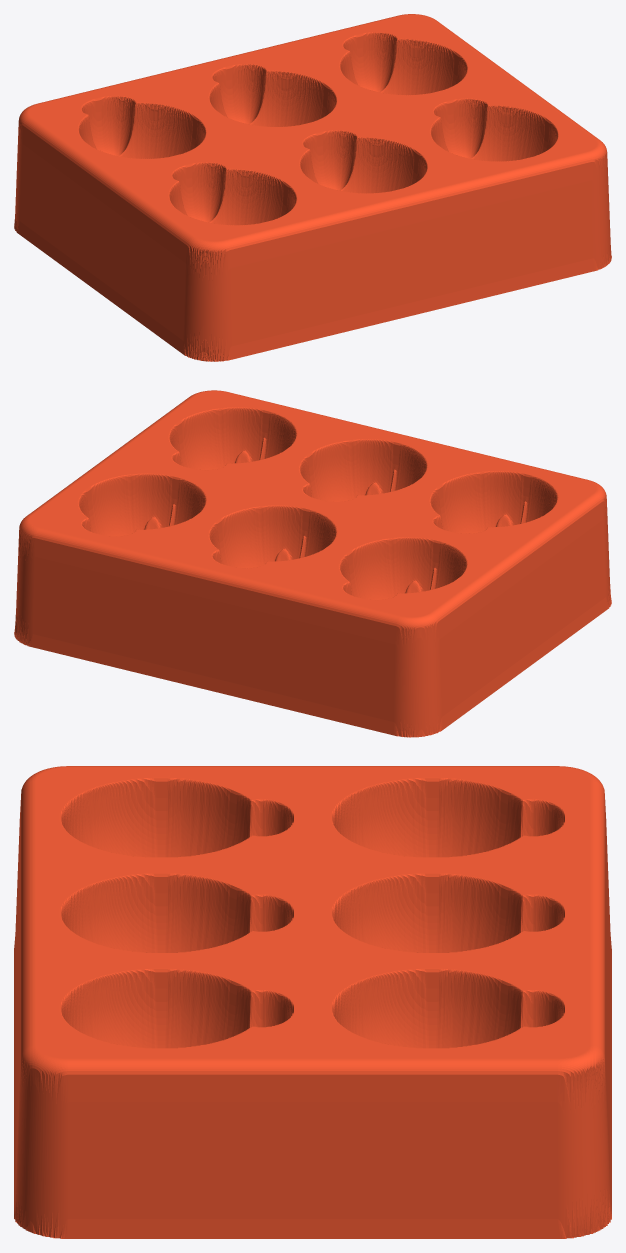
File: mold.glb
3 views of the same model, one above another, from view 1: azimuth 30°, elevation 25°; view 2: azimuth 150°, elevation 25°; view 3: azimuth 270°, elevation 25° (orthographic). The views are drawn at different scales.
Parts seen in each view (by area): view 1: geometry_0; view 2: geometry_0; view 3: geometry_0.
Part boxes in pixels (x1=…): geometry_0: x1=14, y1=14, x2=611, y2=361; geometry_0: x1=14, y1=390, x2=611, y2=737; geometry_0: x1=14, y1=766, x2=611, y2=1238.
Size of the model in its own units: 0.122 by 0.0314 by 0.0996.
